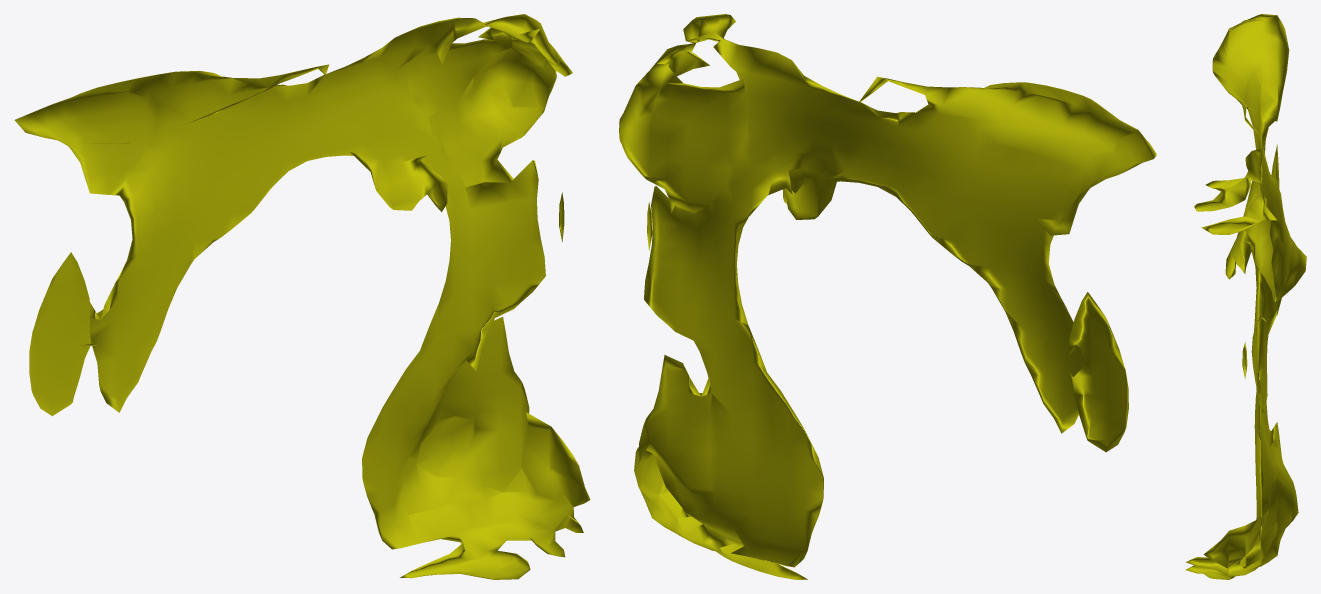
3 renders of one model, left to right at view 1: azimuth 30°, elevation 25°; view 2: azimuth 150°, elevation 25°; view 3: azimuth 270°, elevation 25°, orthographic. The views are drawn at different scales.
Visible parts, largest first — view 1: world; view 2: world; view 3: world.
Boxes of the visible parts, x1,y1,x2,y2 form: world: [14, 14, 590, 579]; world: [619, 14, 1156, 579]; world: [1185, 14, 1306, 579].
Size of the model in its own units: 28.66 by 28.58 by 7.59.
